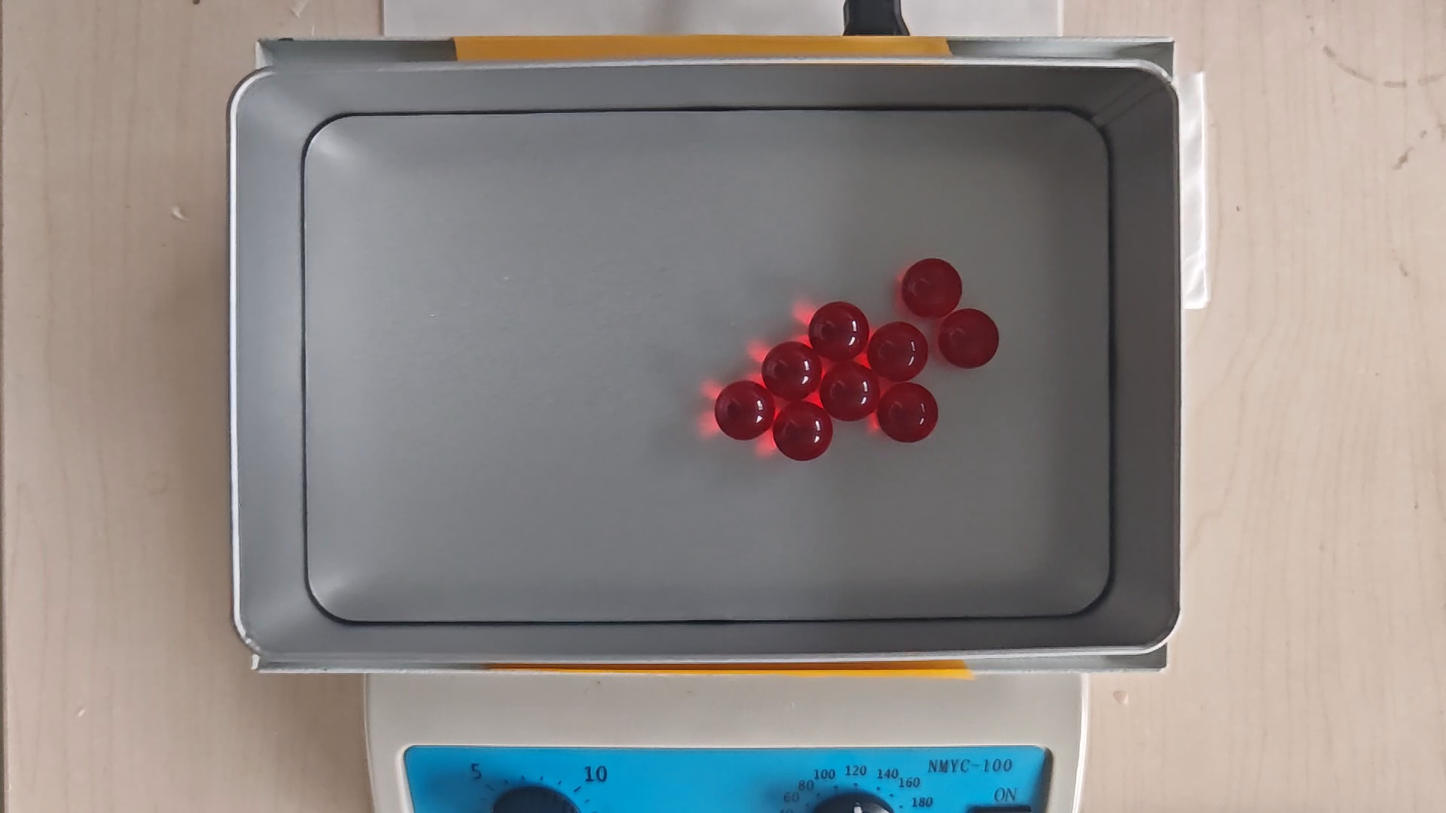ball: (715, 379, 775, 442), (901, 258, 961, 320), (878, 383, 938, 445), (938, 309, 999, 369), (763, 340, 823, 400), (809, 301, 869, 361), (869, 322, 929, 381), (821, 362, 880, 422), (774, 402, 832, 462)
container: (298, 104, 1118, 621)
